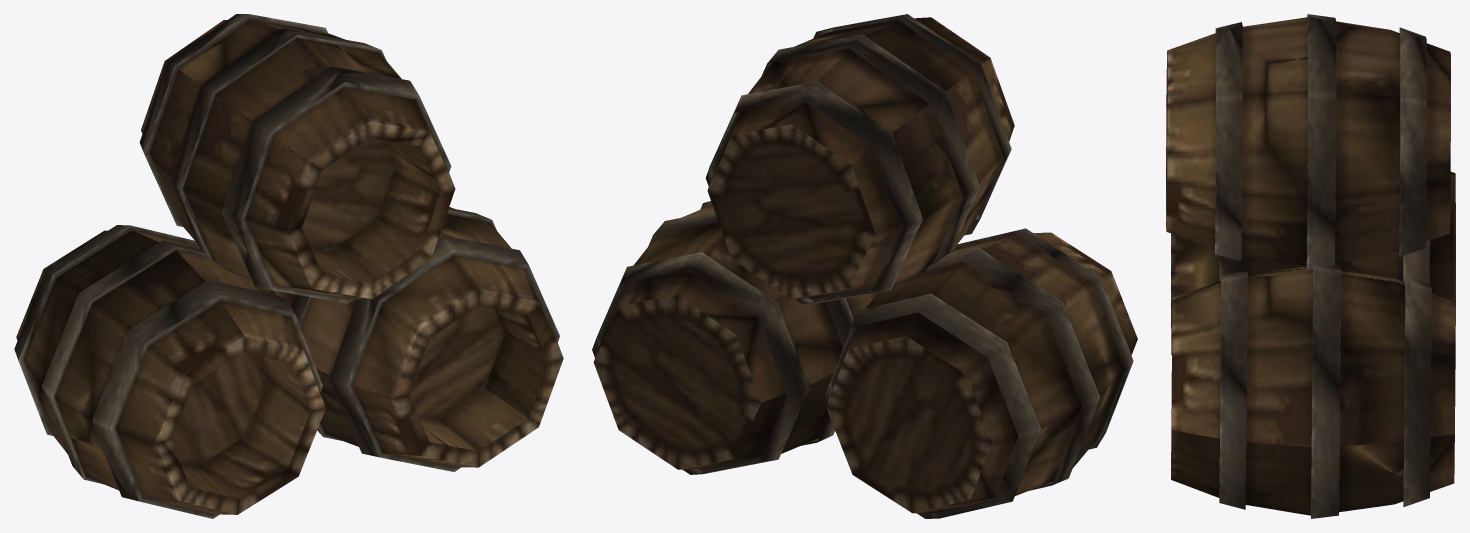
The picture shows the model from 3 angles, left to right: view 1: azimuth 30°, elevation 25°; view 2: azimuth 150°, elevation 25°; view 3: azimuth 270°, elevation 25°; orthographic projection.
Visible parts, largest first — view 1: 293609; view 2: 293609; view 3: 293609.
Boxes of the visible parts, x1,y1,x2,y2 form: 293609: [14, 14, 563, 518]; 293609: [592, 14, 1137, 518]; 293609: [1166, 14, 1455, 518].
Bounding box in the file's own units: 224 × 120 × 202.
